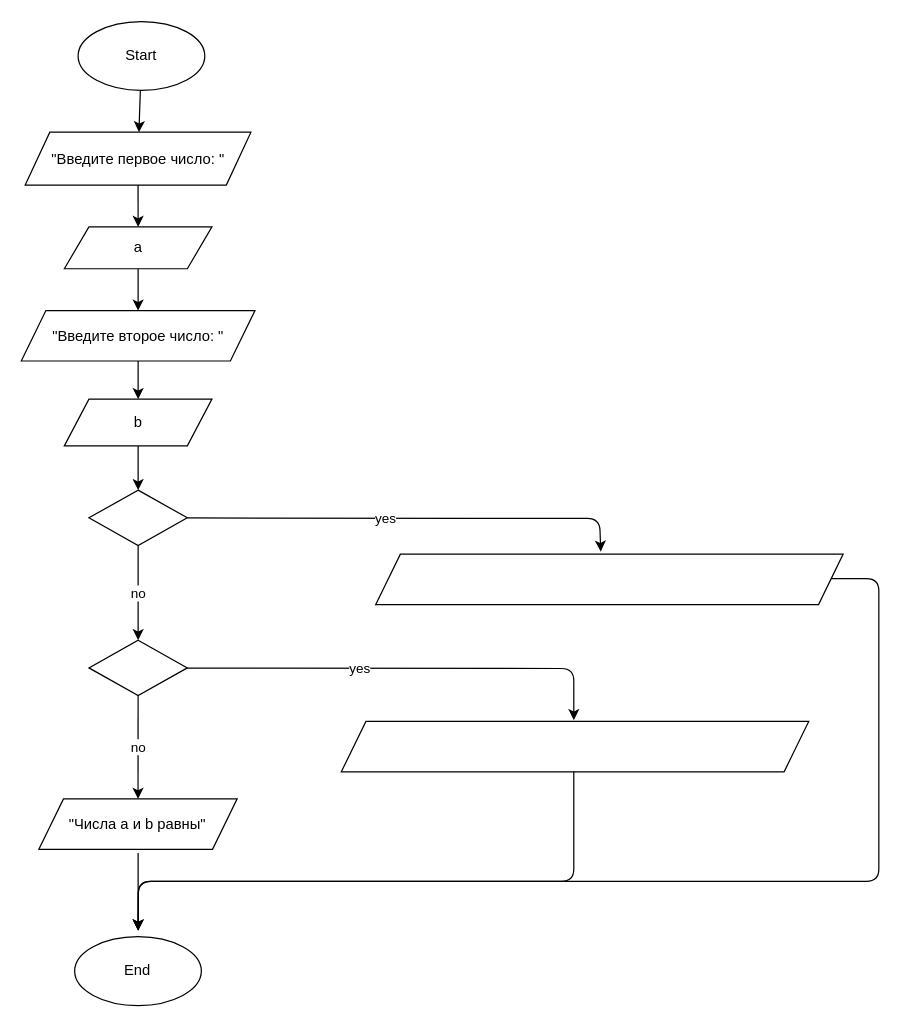
The diagram is 911 pixels wide and 1027 high, and some of its shapes have lost their labels. The centre of each missing label's shape, as x and y in pixels:
''Наибольшее число: a, наименьшее число: b": [609,579]
''Наибольшее число: b, наименьшее число: a": [574,746]
a < b: [137,667]
a > b: [137,517]
